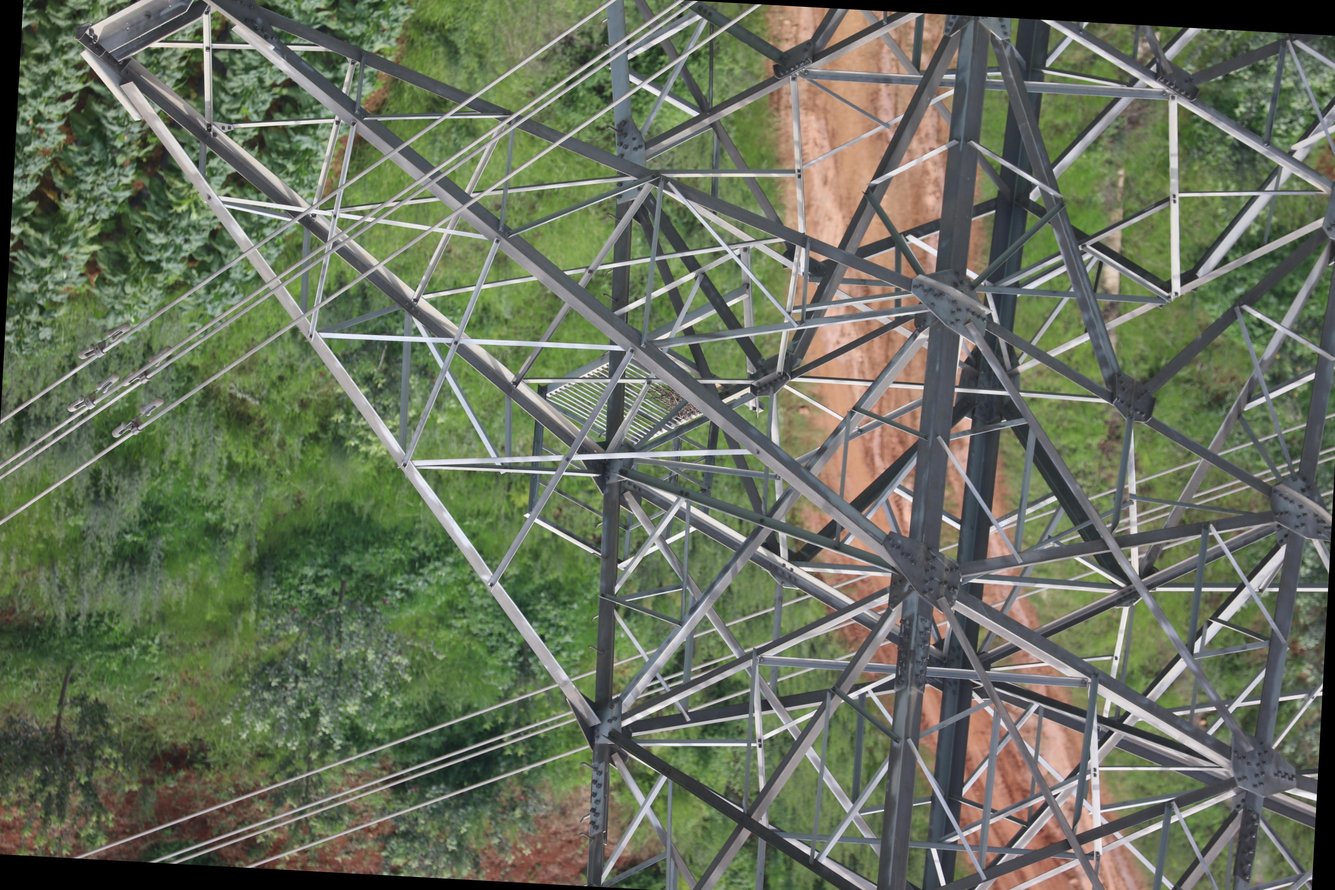damper: (108, 392, 167, 443), (119, 341, 176, 392), (64, 368, 122, 417), (75, 317, 133, 364)
